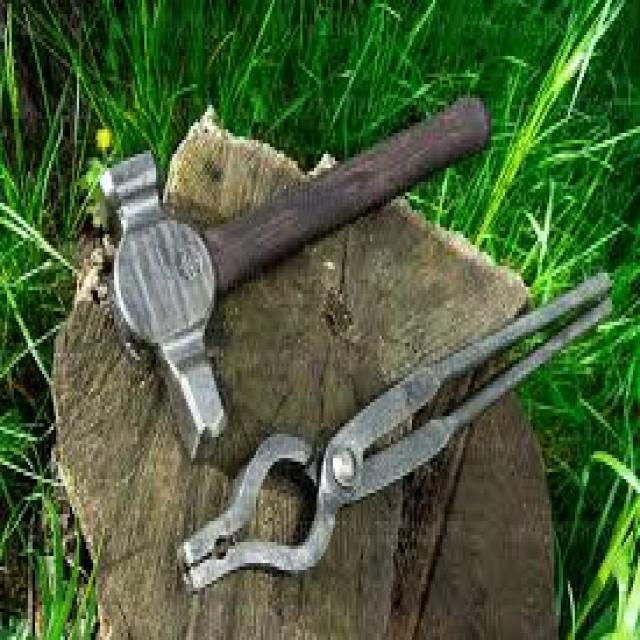hammer: (92, 90, 497, 470)
